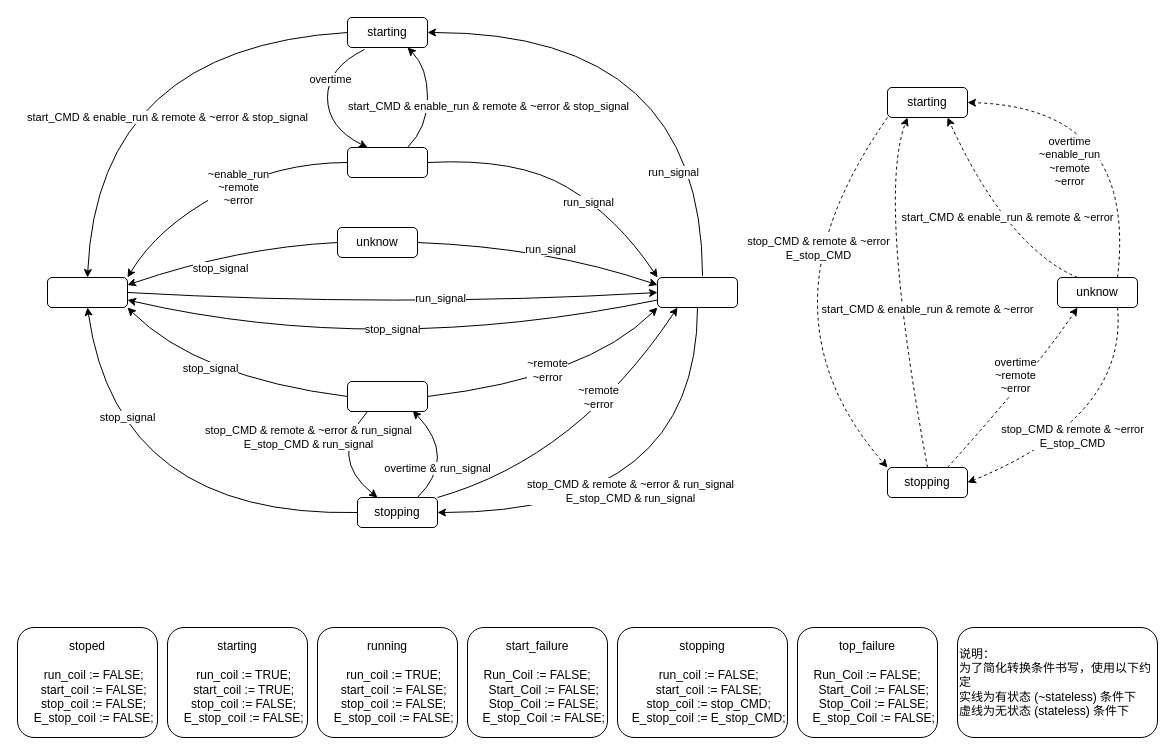
This 1175x755 diagram has some shape labels left out. The centre of each missing label's shape, as x and y in pixels:
running: (697,292)
start failure: (387,162)
stop failure: (387,396)
stopped: (87,292)
